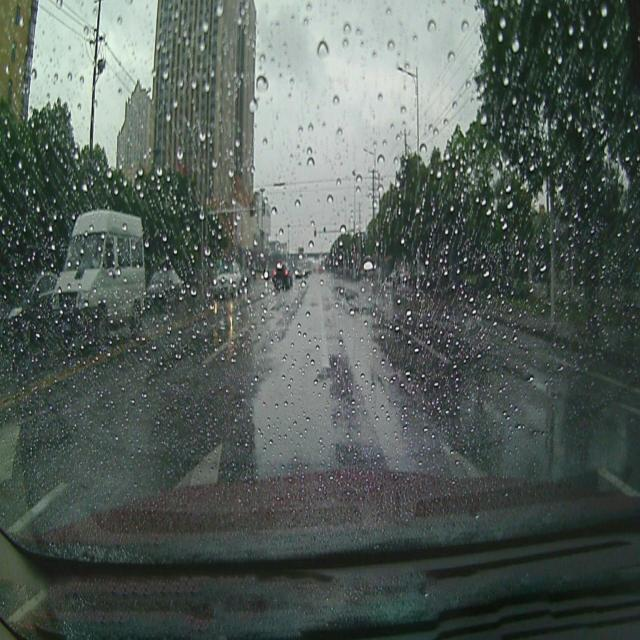car: (1, 272, 56, 348), (145, 269, 184, 312), (212, 262, 242, 295), (270, 260, 292, 291)
